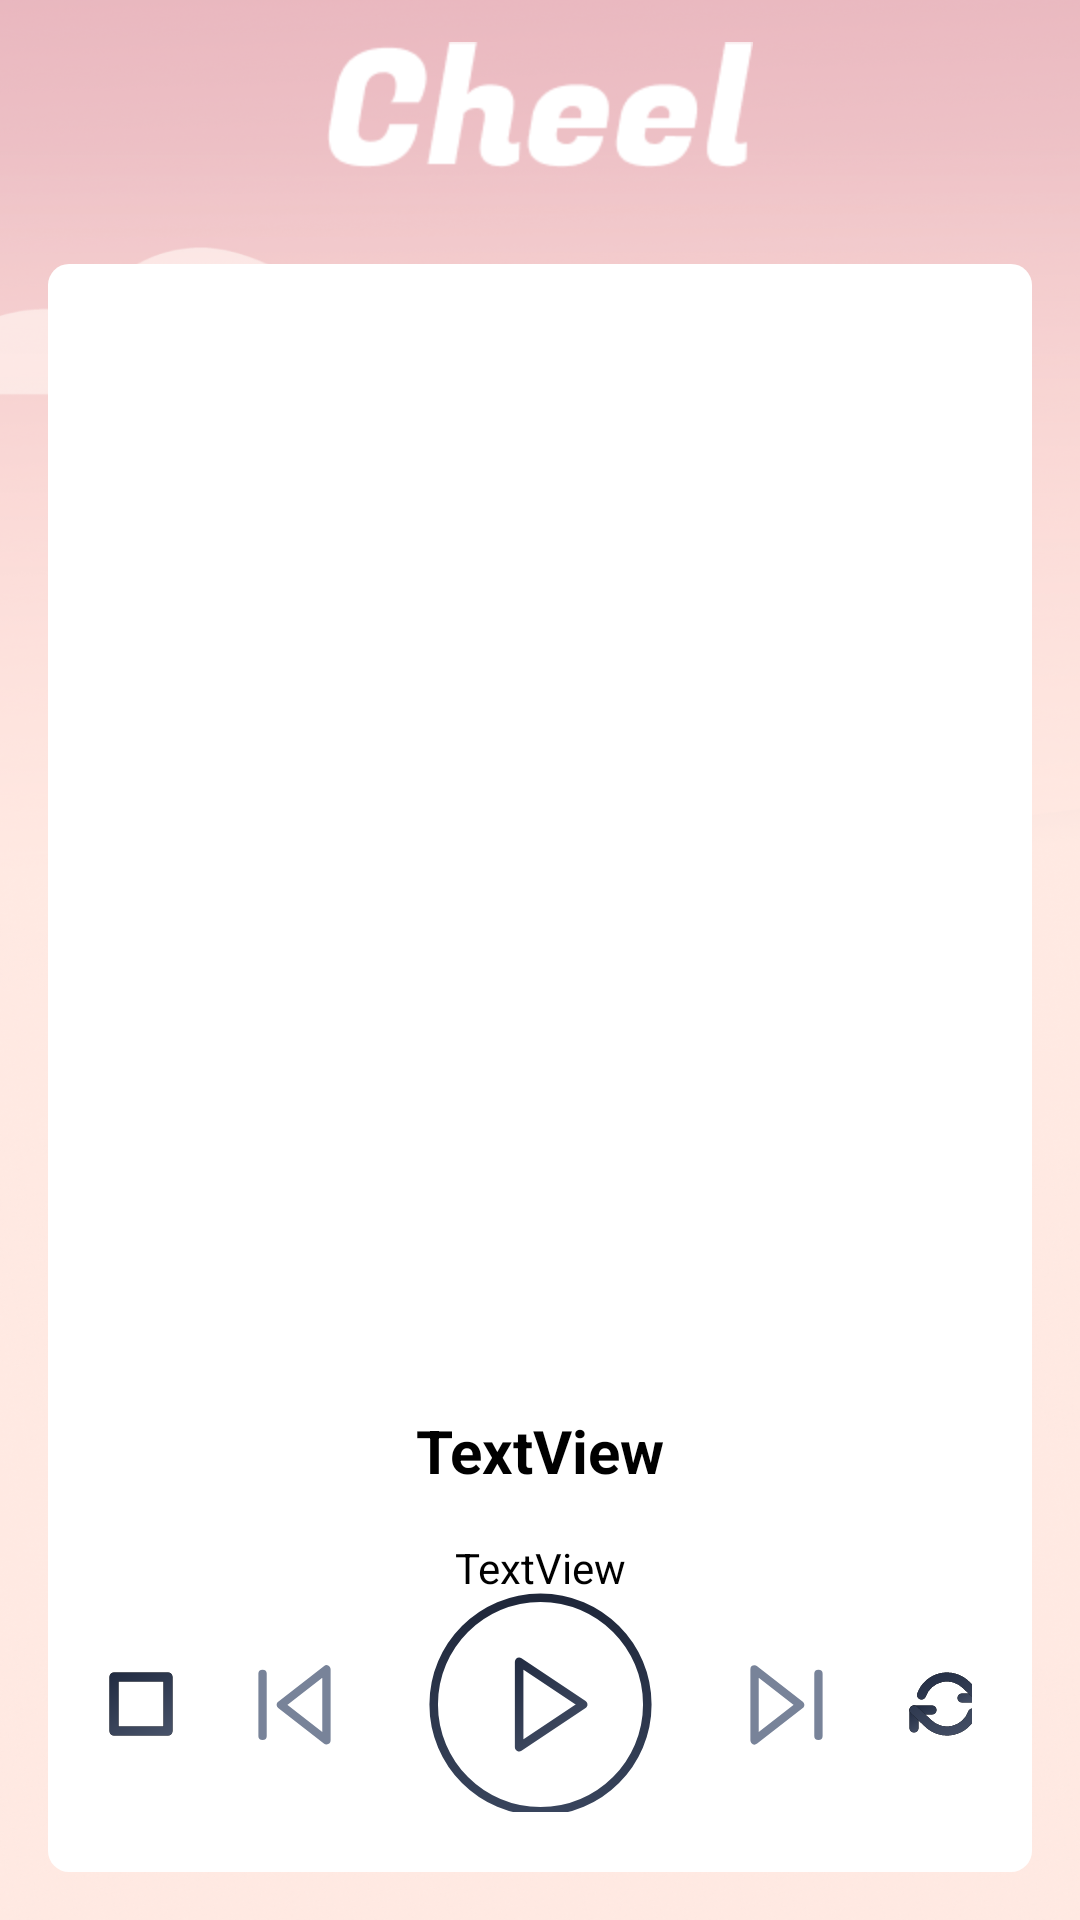

Where icons sit on this 1080w x 1920h app screen, as (x1, y1, x2, y2):
nexrbtn: (750, 1665, 823, 1745)
playbtn: (429, 1593, 652, 1812)
previousbtn: (258, 1665, 331, 1745)
replaybtn: (909, 1672, 972, 1736)
stopbtn: (109, 1672, 173, 1736)
